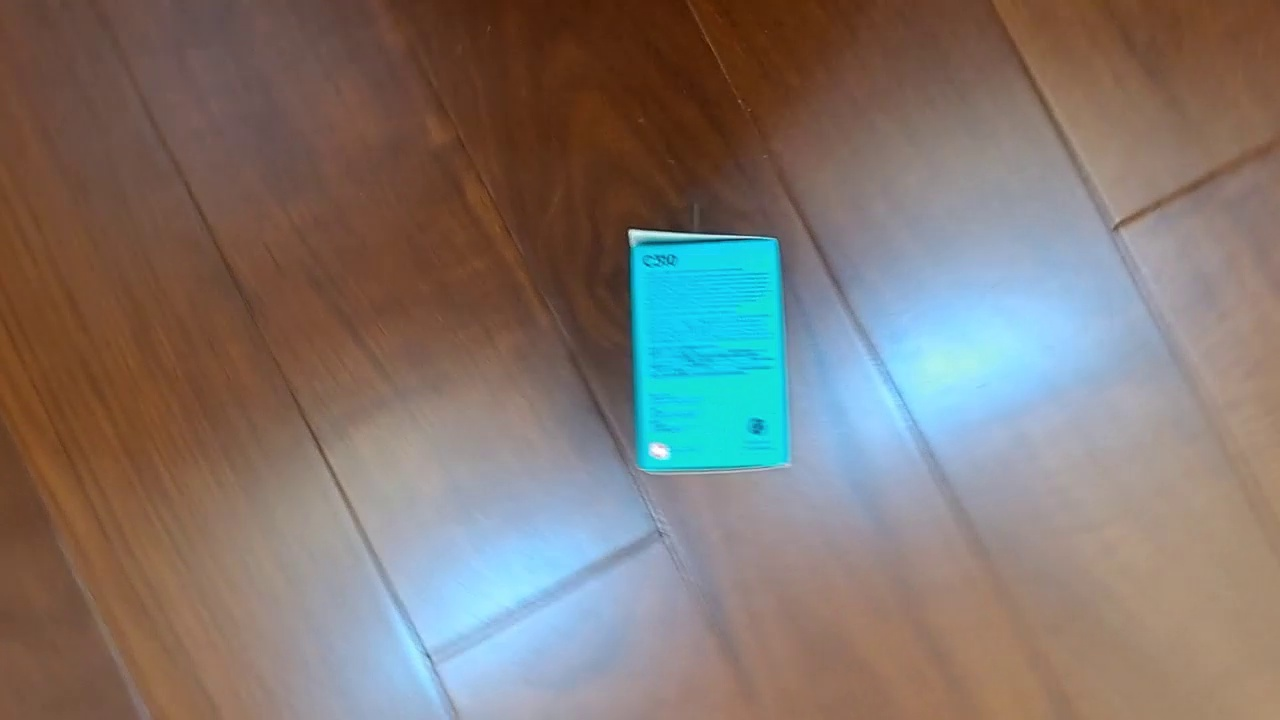webcam: (625, 224, 793, 477)
